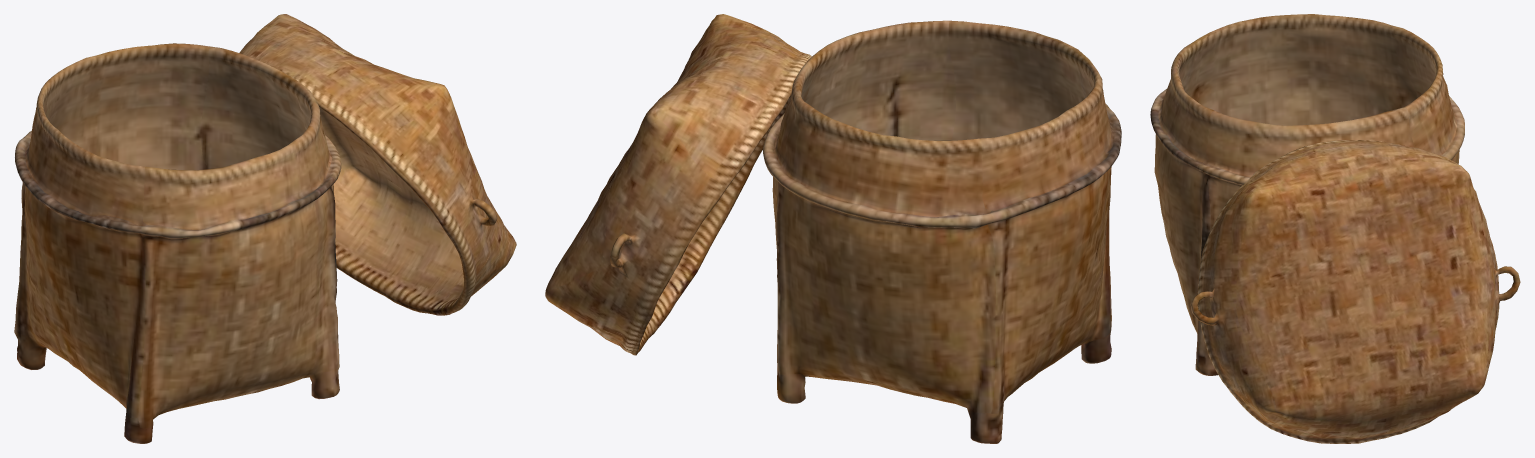
Rendered from ph_wicker_basket.glb.
3 views of the same model, side by side, from view 1: azimuth 30°, elevation 25°; view 2: azimuth 150°, elevation 25°; view 3: azimuth 270°, elevation 25° (orthographic). The views are drawn at different scales.
Parts seen in each view (by area): view 1: wicker_basket_02_base, wicker_basket_02_lid; view 2: wicker_basket_02_base, wicker_basket_02_lid; view 3: wicker_basket_02_lid, wicker_basket_02_base.
Boxes of the visible parts, x1,y1,x2,y2 form: wicker_basket_02_base: (14,43,341,443); wicker_basket_02_lid: (239,14,516,315); wicker_basket_02_base: (763,20,1121,443); wicker_basket_02_lid: (545,14,811,355); wicker_basket_02_lid: (1190,140,1520,443); wicker_basket_02_base: (1150,14,1464,375).
Bounding box in the file's own units: 0.3469 × 0.2005 × 0.2545.
1 material, 1 textured.
